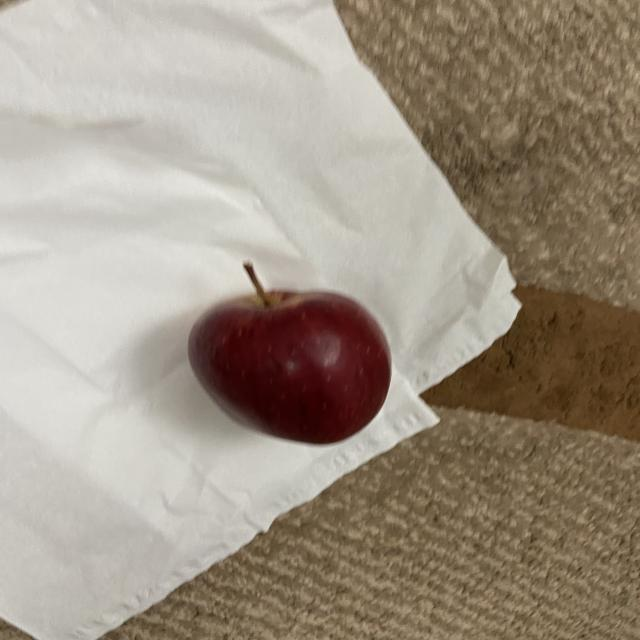apple: (182, 256, 396, 450)
